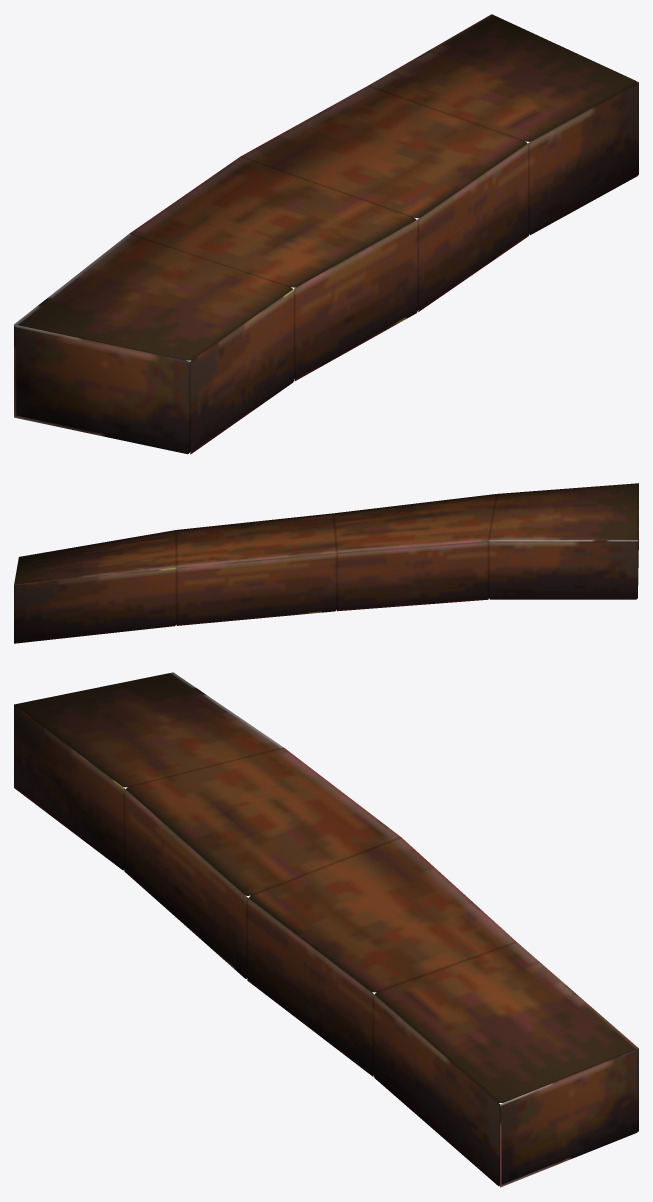
The picture shows the model from 3 angles, top to bottom: view 1: azimuth 30°, elevation 25°; view 2: azimuth 150°, elevation 25°; view 3: azimuth 270°, elevation 25°; orthographic projection. The views are drawn at different scales.
Parts seen in each view (by area): view 1: T1L4M004_9; view 2: T1L4M004_9; view 3: T1L4M004_9.
Boxes of the visible parts, <box> form: T1L4M004_9: <box>14,14,638,454</box>; T1L4M004_9: <box>14,483,638,643</box>; T1L4M004_9: <box>14,672,638,1187</box>.
Bounding box in the file's own units: 4.84 × 1.08 × 3.62.
